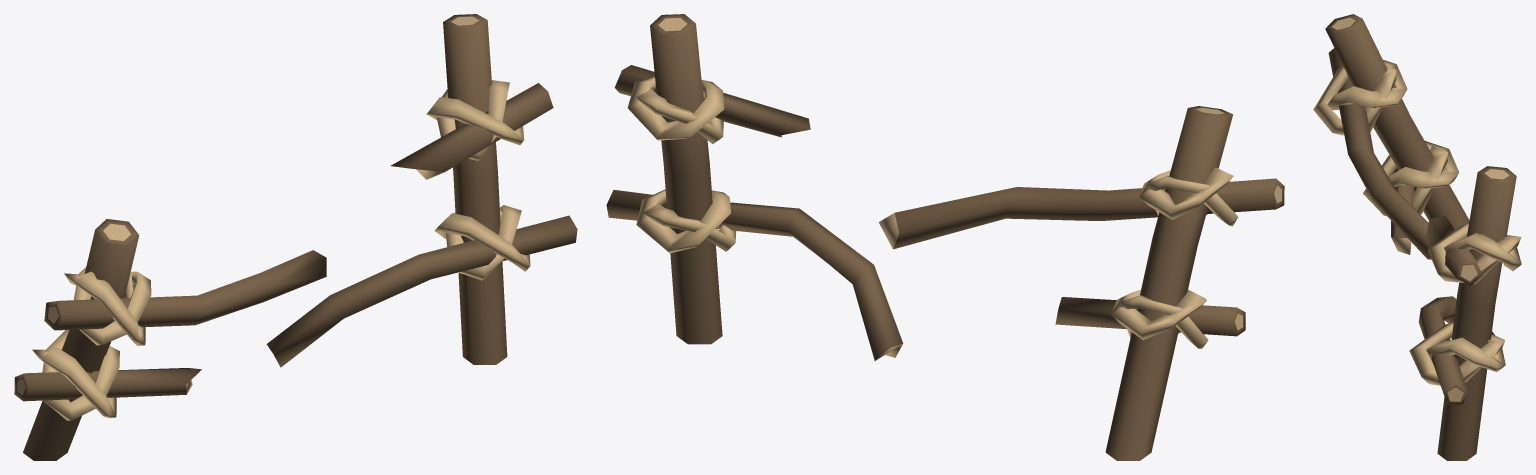
The model's file is rpgpp_av_fence_01c_2m.gltf.
The picture shows the model from 3 angles, left to right: view 1: azimuth 30°, elevation 25°; view 2: azimuth 150°, elevation 25°; view 3: azimuth 270°, elevation 25°; orthographic projection. The views are drawn at different scales.
Visible parts, largest first — view 1: rpgpp_av_fence_01c_2m; view 2: rpgpp_av_fence_01c_2m; view 3: rpgpp_av_fence_01c_2m.
Part boxes in pixels (left/top/right/bottom): rpgpp_av_fence_01c_2m: left=14, top=14, right=577, bottom=460; rpgpp_av_fence_01c_2m: left=606, top=14, right=1284, bottom=460; rpgpp_av_fence_01c_2m: left=1313, top=14, right=1521, bottom=460.
Size of the model in its own units: 0.0284 by 0.0148 by 0.00993.
Materials: 1 (1 with a texture image).
